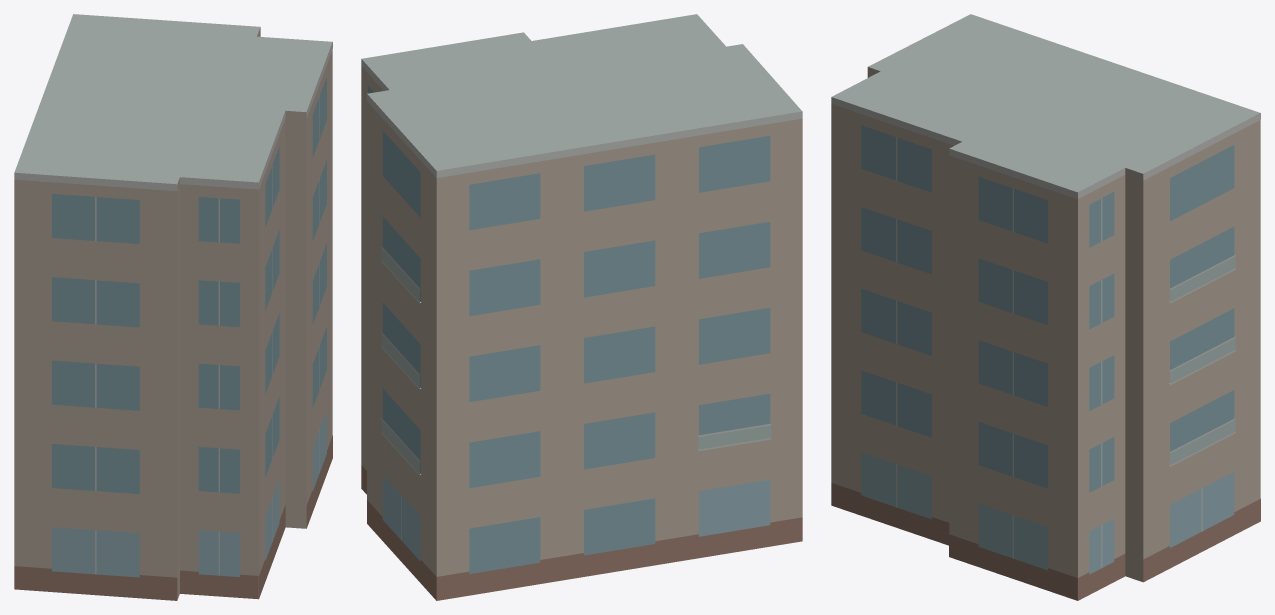
Rendered from survey-upis-32730165.glb.
The picture shows the model from 3 angles, left to right: view 1: azimuth 30°, elevation 25°; view 2: azimuth 150°, elevation 25°; view 3: azimuth 270°, elevation 25°; orthographic projection. The views are drawn at different scales.
Visible parts, largest first — view 1: survey-upis-32730165.tmp; view 2: survey-upis-32730165.tmp; view 3: survey-upis-32730165.tmp.
Boxes of the visible parts, x1,y1,x2,y2 form: survey-upis-32730165.tmp: (14, 14, 332, 600); survey-upis-32730165.tmp: (361, 14, 802, 600); survey-upis-32730165.tmp: (831, 14, 1260, 600).
Size of the model in its own units: 13.68 by 14.6 by 13.92.
